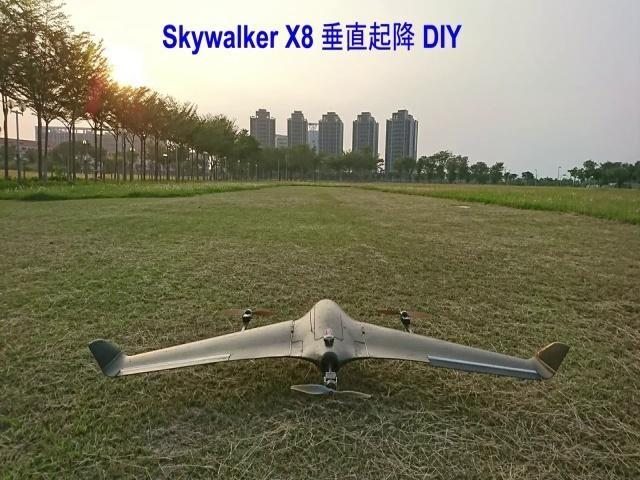Airplane: (87, 298, 570, 399)
